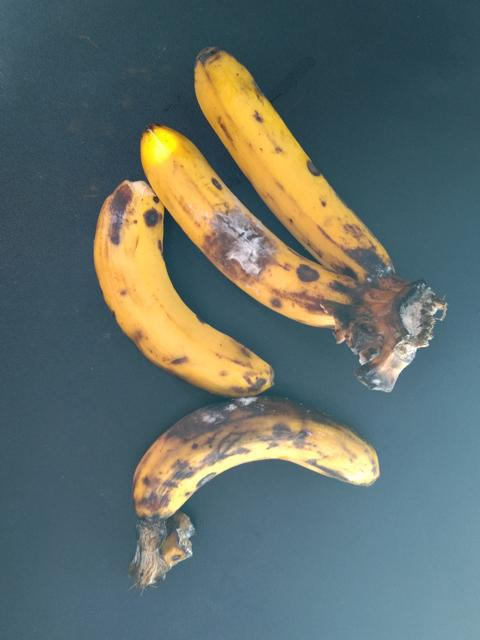overripe: (185, 37, 384, 277), (120, 110, 331, 334), (92, 182, 261, 401)
rotten: (101, 372, 395, 545)
